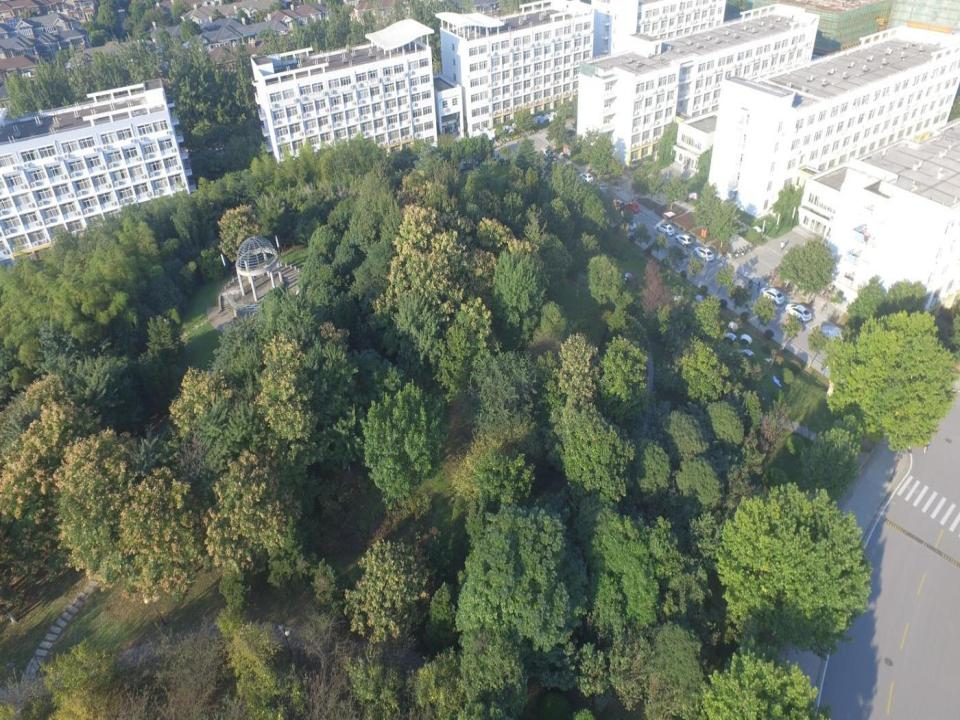car: (784, 302, 812, 322), (820, 324, 845, 344), (759, 285, 785, 304), (693, 246, 715, 261), (674, 232, 693, 248), (656, 222, 676, 237), (622, 217, 636, 230), (626, 201, 640, 213), (579, 172, 593, 183), (543, 148, 556, 158), (459, 160, 470, 171)
